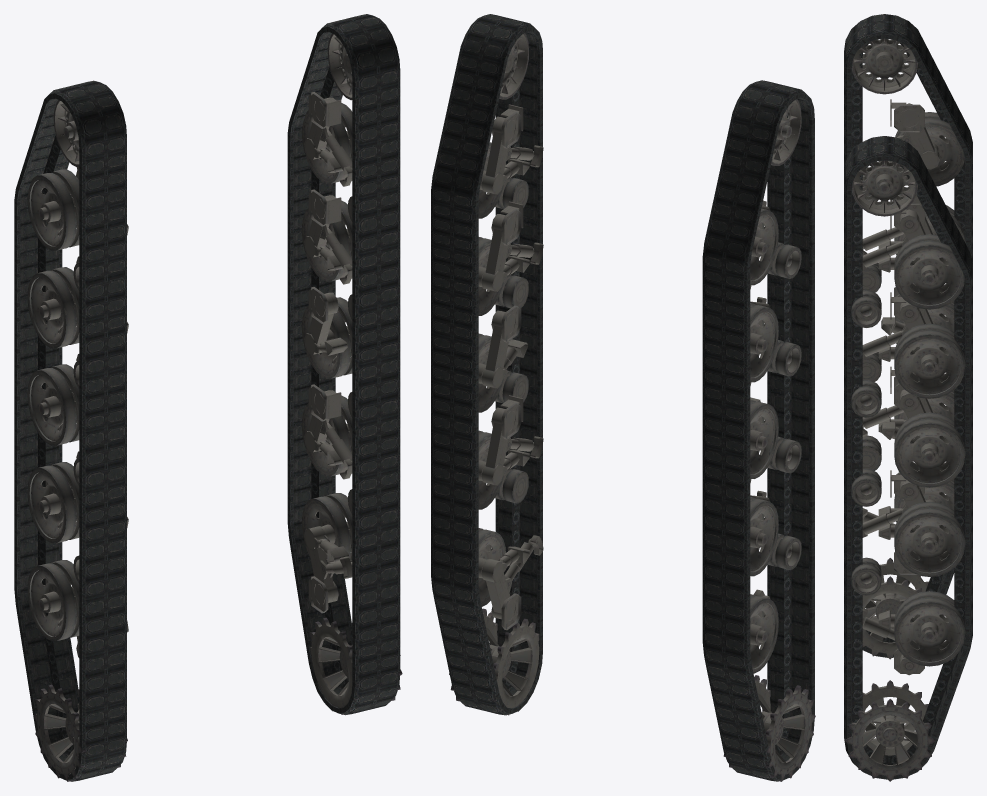
The model's file is Chassis.glb.
3 renders of one model, left to right at view 1: azimuth 30°, elevation 25°; view 2: azimuth 150°, elevation 25°; view 3: azimuth 270°, elevation 25°, orthographic. The views are drawn at different scales.
Parts seen in each view (by area): view 1: set_0_group_0, set_1_group_0, set_3_group_0, set_2_group_0; view 2: set_0_group_0, set_1_group_0, set_3_group_0, set_2_group_0; view 3: set_3_group_0, set_1_group_0, set_2_group_0, set_0_group_0.
Part boxes in pixels (<box>): set_0_group_0: <box>14,80,126,781</box>; set_1_group_0: <box>287,14,400,715</box>; set_3_group_0: <box>301,33,402,714</box>; set_2_group_0: <box>27,100,128,781</box>; set_0_group_0: <box>702,80,814,781</box>; set_1_group_0: <box>431,14,542,715</box>; set_3_group_0: <box>449,33,543,715</box>; set_2_group_0: <box>723,99,815,781</box>; set_3_group_0: <box>845,160,965,781</box>; set_1_group_0: <box>844,136,972,779</box>; set_2_group_0: <box>852,38,965,659</box>; set_0_group_0: <box>844,14,972,657</box>.
Bounding box in the file's own units: 3 × 6.16 × 1.14.
4 materials, 4 textured.
